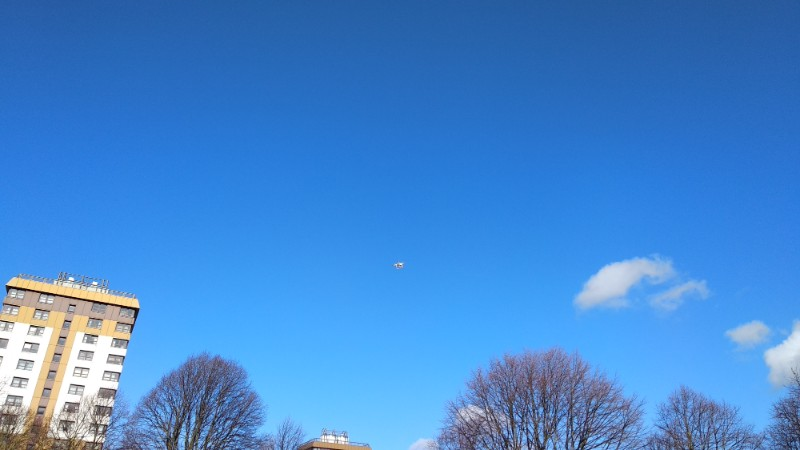drone: (394, 261, 404, 272)
